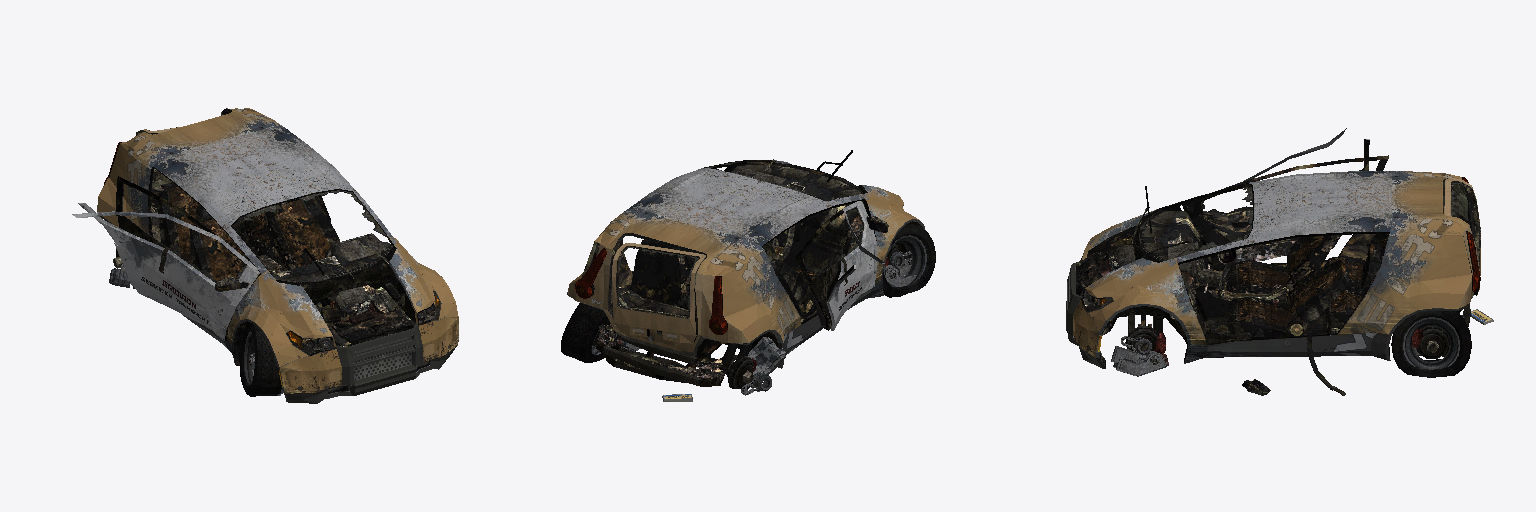
3 renders of one model, left to right at view 1: azimuth 30°, elevation 25°; view 2: azimuth 150°, elevation 25°; view 3: azimuth 270°, elevation 25°, orthographic.
Parts seen in each view (by area): view 1: sedanbody, sedaninterior, sedanbottom, sedanglass; view 2: sedanbody, sedaninterior, sedanbottom, sedanglass; view 3: sedanbody, sedaninterior, sedanbottom, sedanglass.
Part boxes in pixels (x1,y1,x2,y2): sedanbody: (72, 108, 458, 403); sedaninterior: (104, 108, 438, 351); sedanbottom: (113, 129, 415, 396); sedanglass: (149, 127, 440, 354); sedanbody: (567, 160, 926, 401); sedaninterior: (575, 162, 864, 334); sedanbottom: (561, 150, 935, 388); sedanglass: (618, 161, 863, 311); sedanbody: (1066, 128, 1493, 376); sedaninterior: (1081, 155, 1480, 395); sedanbottom: (1076, 139, 1480, 395); sedanglass: (1081, 182, 1477, 312).
Size of the model in its own units: 6.79 by 3.06 by 8.33.
5 materials, 5 textured.